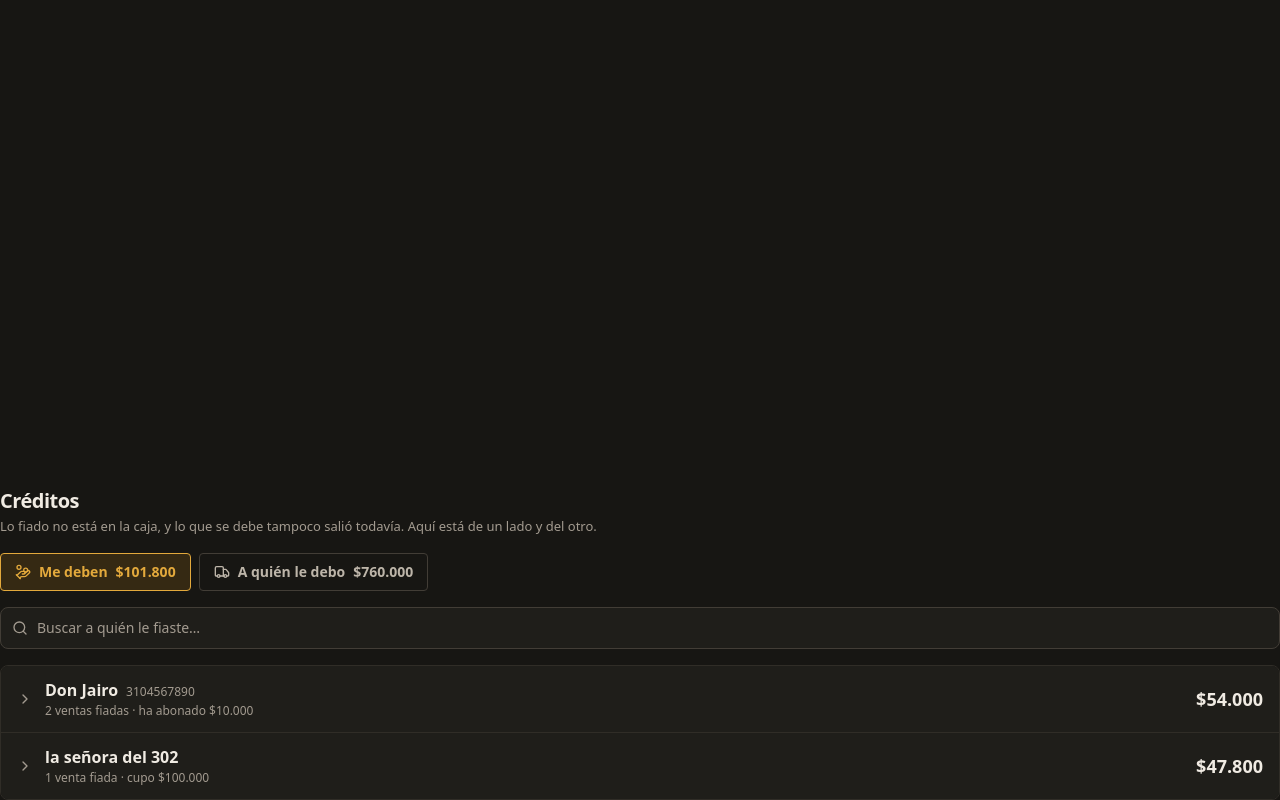
it: buscar › se puede limpiar de un toque
(page scrolled)
Expected: the text "Don Jairo" is shown, [45,678,118,700]
Type "jairo" into the field labelled "Buscar" at [640, 628], box [0,606,1279,648]
(page scrolled)
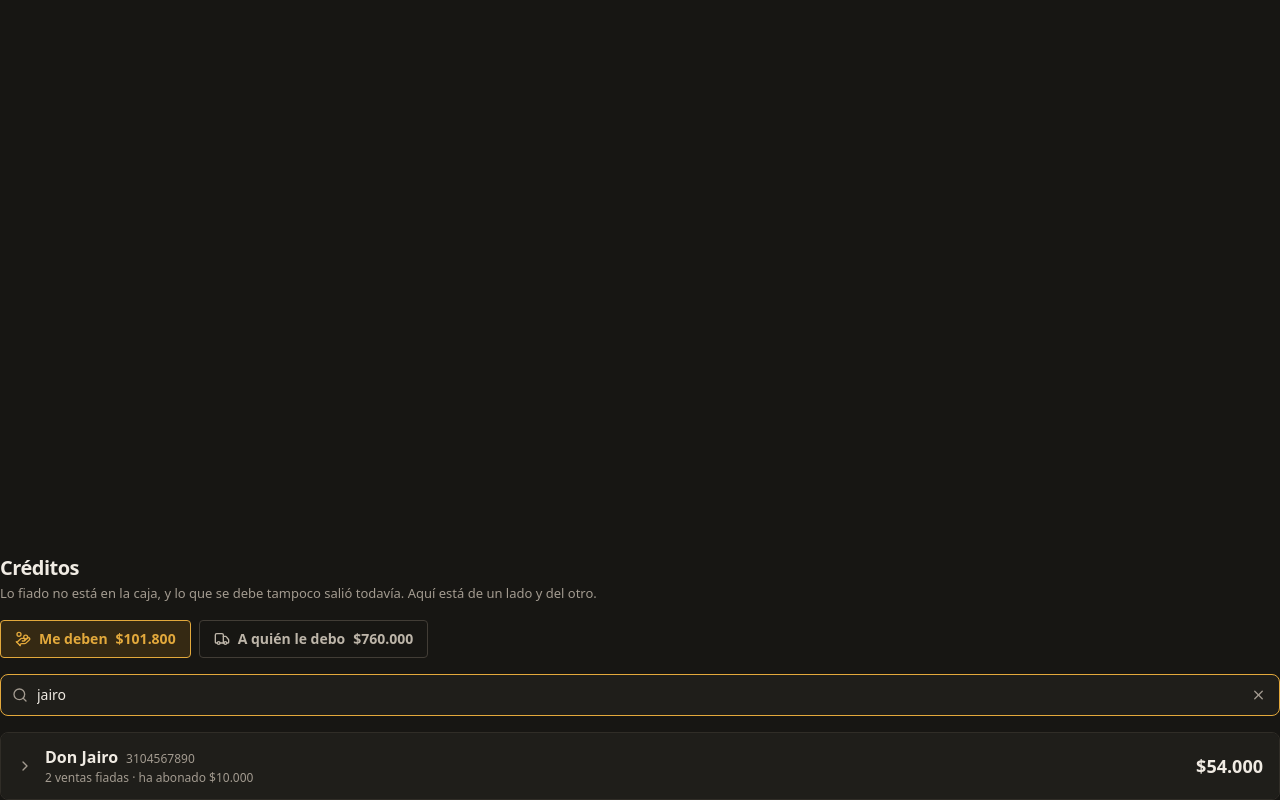
Now the button "la señora del 302" is gone
Click the button named "Limpiar la búsqueda" at [1258, 694], box [1247,683,1270,706]
(page scrolled)
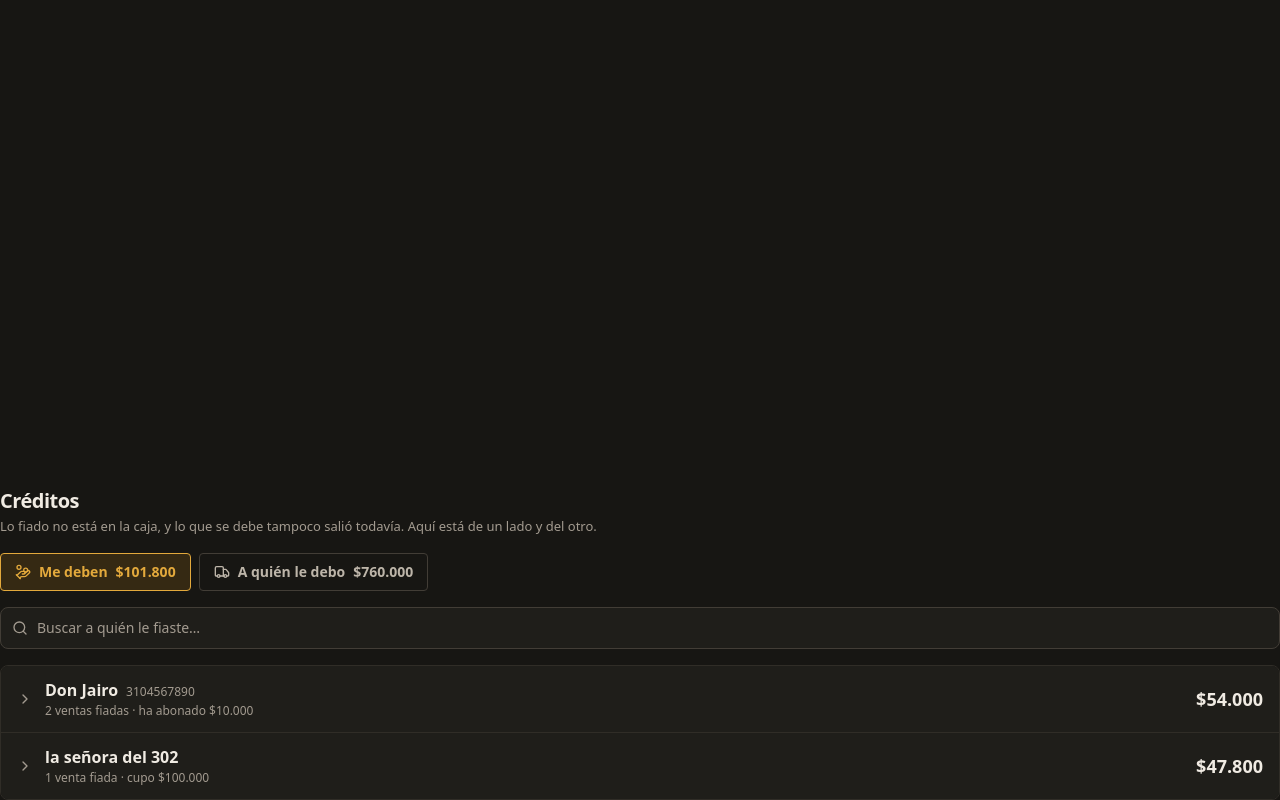
Now the text "la señora del 302" is shown, box [45,746,178,768]
